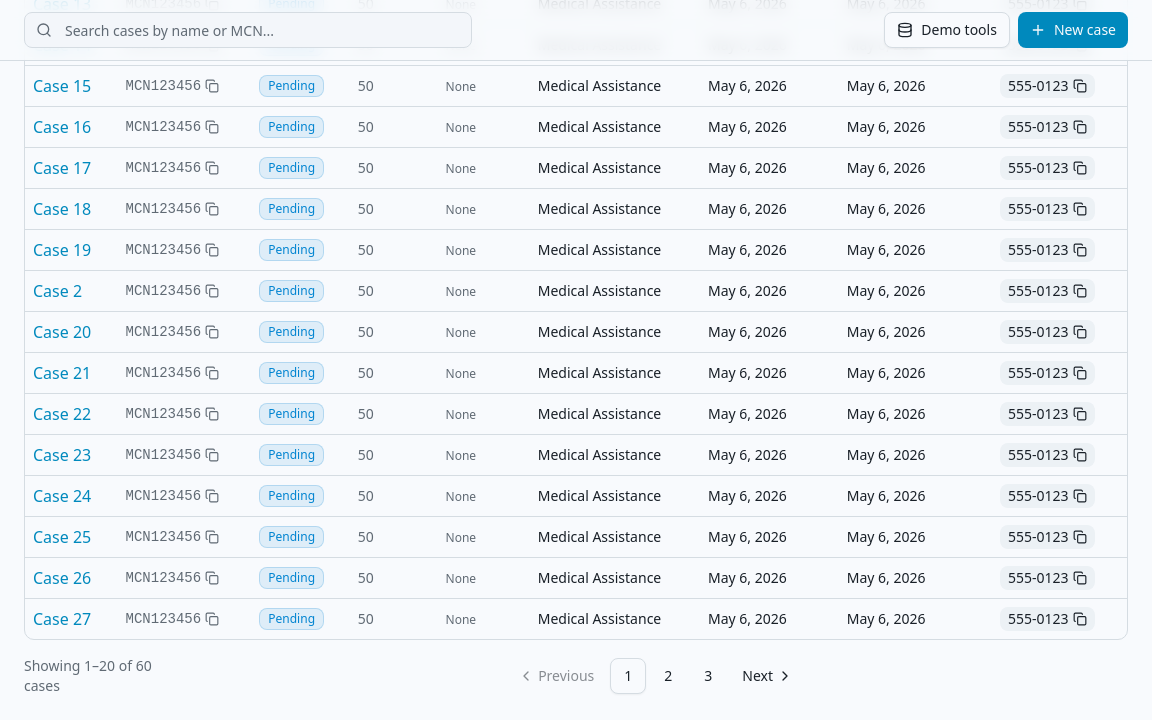
it: CaseList pagination › navigates to specific page when clicking page number
(page scrolled)
Click on page 3
Click the link "3" at (708, 675), box [704,666,712,684]
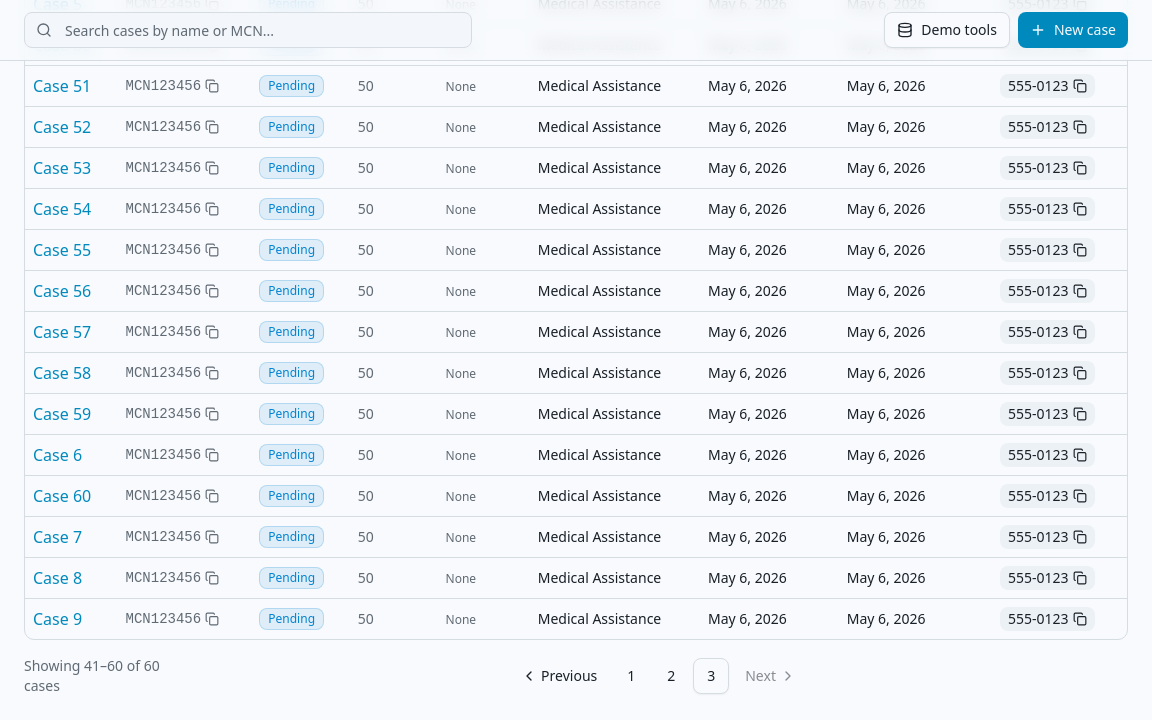
Now the text "Showing 41–60 of 60 cases" is shown, box [24,656,173,696]
